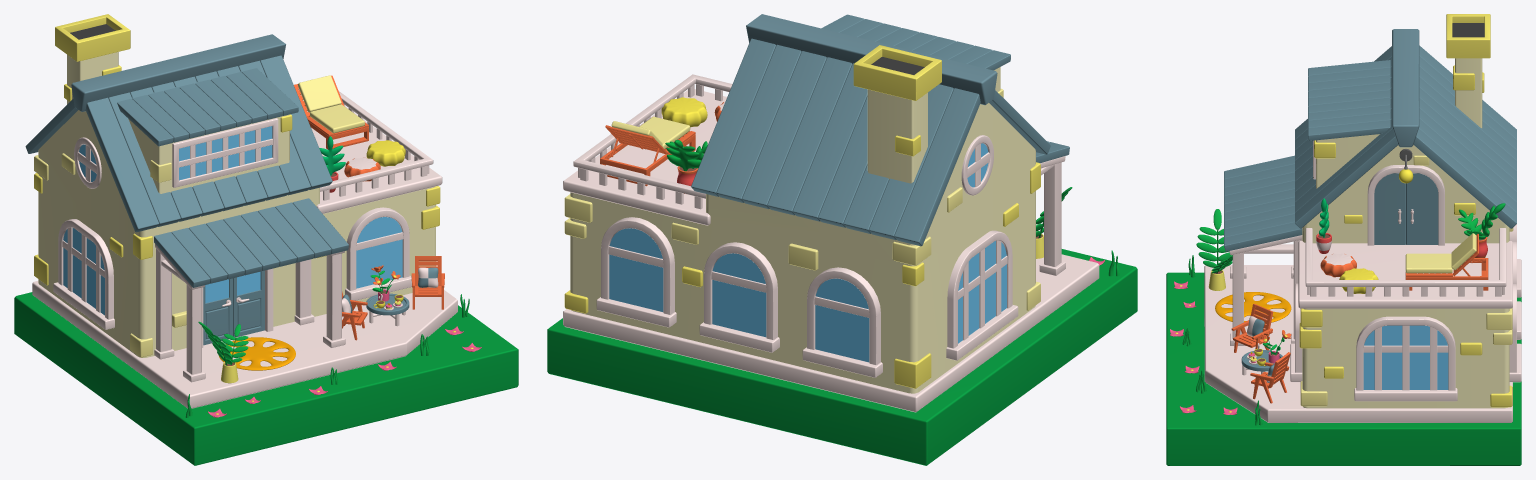
File: Town_Island_16.glb
3 views of the same model, side by side, from view 1: azimuth 30°, elevation 25°; view 2: azimuth 150°, elevation 25°; view 3: azimuth 270°, elevation 25° (orthographic). The views are drawn at different scales.
Visible parts, largest first — view 1: Town_16_House_1, Town_16_Base_1, Town_16_Carpet_1, Town_16_Plant_1, Town_16_Pillow_2, Town_16_Pillow_1, Town_16_Outdoor_Lounger_Chair_1, Town_16_Outdoor_Sun_Lounger_1, Town_16_Bean_Bag_Chair_1, Town_16_Table_1, Town_16_Plant_2, Town_16_Bean_Bag_Chair_2 (+1 smaller); view 2: Town_16_House_1, Town_16_Base_1, Town_16_Outdoor_Sun_Lounger_1, Town_16_Plant_3, Town_16_Bean_Bag_Chair_1, Town_16_Pillow_1; view 3: Town_16_House_1, Town_16_Base_1, Town_16_Plant_1, Town_16_Carpet_1, Town_16_Pillow_1, Town_16_Outdoor_Sun_Lounger_1, Town_16_Plant_3, Town_16_Outdoor_Lounger_Chair_2, Town_16_Outdoor_Lounger_Chair_1, Town_16_Bean_Bag_Chair_2, Town_16_Plant_2, Town_16_Pillow_2 (+3 smaller).
Part boxes in pixels (bbox=[...]): Town_16_House_1: bbox=[25, 14, 457, 408]; Town_16_Base_1: bbox=[14, 292, 518, 465]; Town_16_Carpet_1: bbox=[218, 337, 295, 370]; Town_16_Plant_1: bbox=[198, 321, 248, 383]; Town_16_Pillow_2: bbox=[298, 75, 341, 112]; Town_16_Pillow_1: bbox=[310, 104, 364, 133]; Town_16_Outdoor_Lounger_Chair_1: bbox=[411, 256, 444, 309]; Town_16_Outdoor_Sun_Lounger_1: bbox=[294, 75, 368, 149]; Town_16_Bean_Bag_Chair_1: bbox=[366, 140, 405, 166]; Town_16_Table_1: bbox=[366, 293, 409, 326]; Town_16_Plant_2: bbox=[319, 136, 345, 192]; Town_16_Bean_Bag_Chair_2: bbox=[344, 157, 380, 181]; Town_16_House_1: bbox=[563, 14, 1099, 412]; Town_16_Base_1: bbox=[547, 249, 1137, 465]; Town_16_Outdoor_Sun_Lounger_1: bbox=[600, 125, 695, 186]; Town_16_Plant_3: bbox=[665, 140, 707, 193]; Town_16_Bean_Bag_Chair_1: bbox=[661, 97, 707, 127]; Town_16_Pillow_1: bbox=[639, 116, 690, 149]; Town_16_House_1: bbox=[1204, 14, 1521, 422]; Town_16_Base_1: bbox=[1166, 272, 1521, 465]; Town_16_Plant_1: bbox=[1196, 209, 1232, 290]; Town_16_Carpet_1: bbox=[1215, 292, 1291, 323]; Town_16_Pillow_1: bbox=[1405, 253, 1452, 273]; Town_16_Outdoor_Sun_Lounger_1: bbox=[1405, 234, 1488, 290]; Town_16_Plant_3: bbox=[1458, 203, 1505, 257]; Town_16_Outdoor_Lounger_Chair_2: bbox=[1231, 304, 1273, 352]; Town_16_Outdoor_Lounger_Chair_1: bbox=[1250, 352, 1290, 403]; Town_16_Bean_Bag_Chair_2: bbox=[1320, 253, 1356, 277]; Town_16_Plant_2: bbox=[1316, 198, 1331, 253]; Town_16_Pillow_2: bbox=[1451, 233, 1476, 270].
Size of the model in its own units: 9.99 by 9.2 by 9.6.
Materials: 35 (35 with a texture image).
